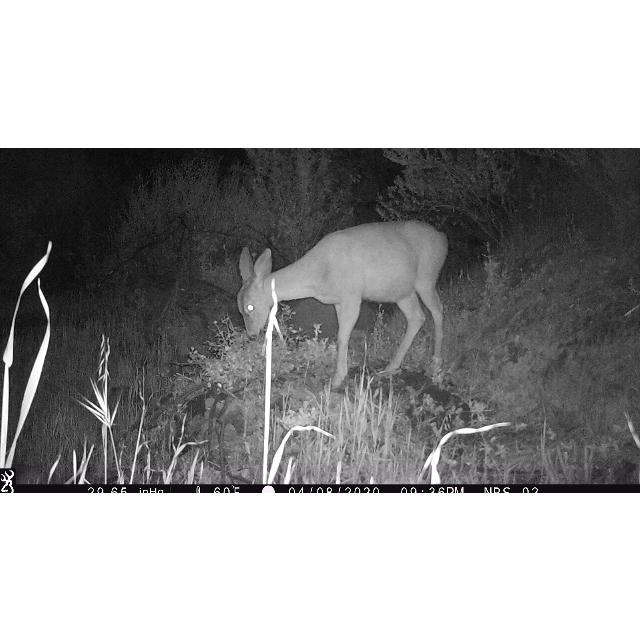animals: (238, 216, 452, 388)
